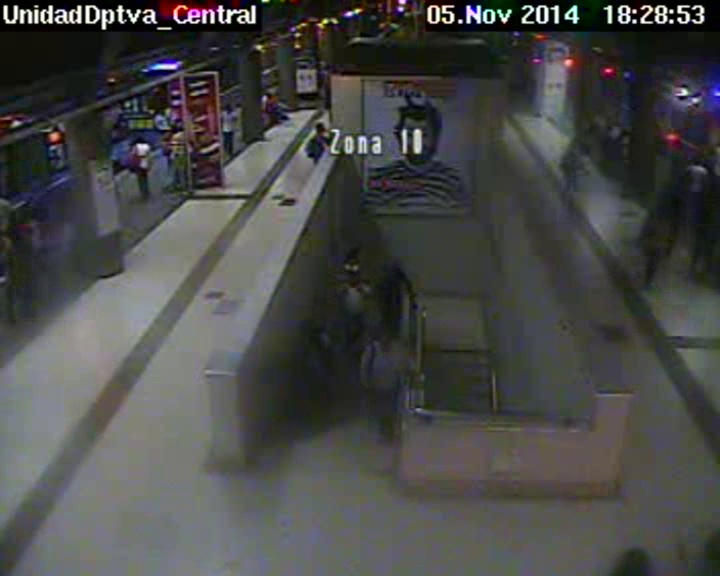person: (29, 205, 47, 222), (379, 333, 395, 352), (3, 213, 20, 229), (387, 263, 403, 279), (658, 192, 672, 210), (346, 272, 360, 288), (347, 247, 361, 261), (312, 120, 326, 134), (573, 134, 586, 147), (690, 154, 704, 166), (174, 119, 186, 131), (134, 135, 145, 144), (225, 103, 234, 112), (271, 82, 279, 91), (264, 91, 271, 98), (265, 85, 272, 92)
